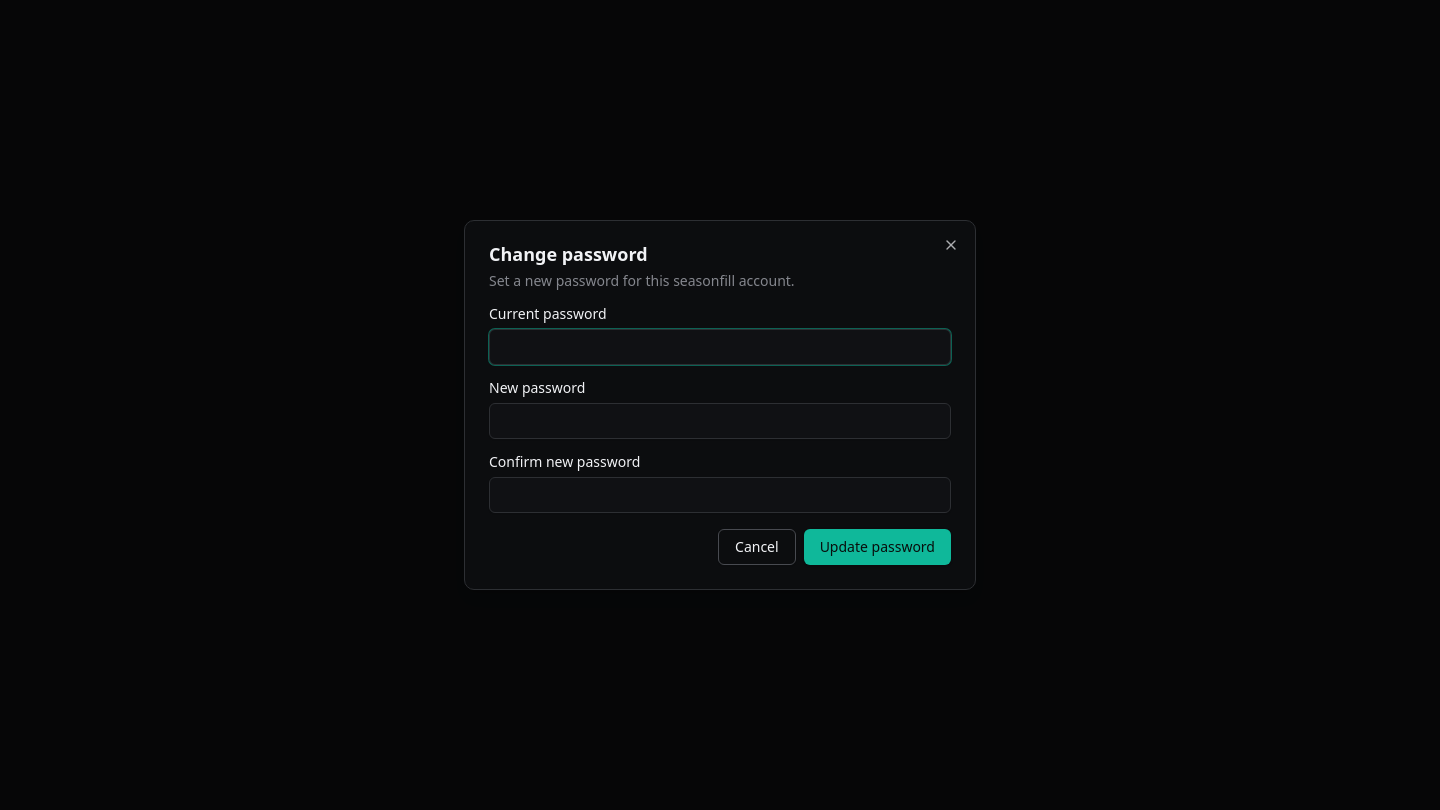
it: <PasswordChangeDialog /> › rejects when confirm does not match
Type "oldpass" into the password field labelled "Current password" at (720, 347), box [489, 329, 951, 365]
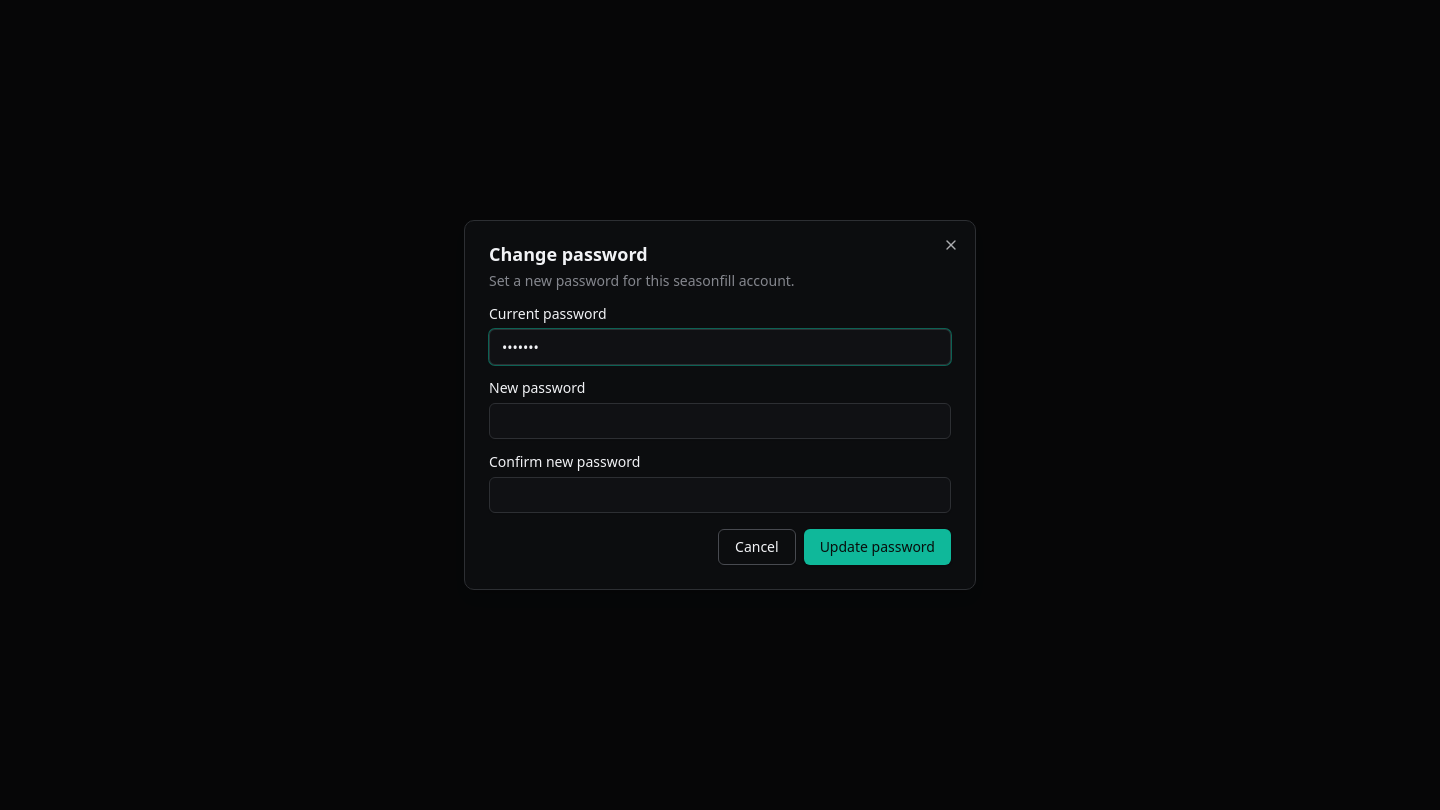
Type "longenoughpw" into the password field labelled "New password" at (720, 421), box [489, 403, 951, 439]
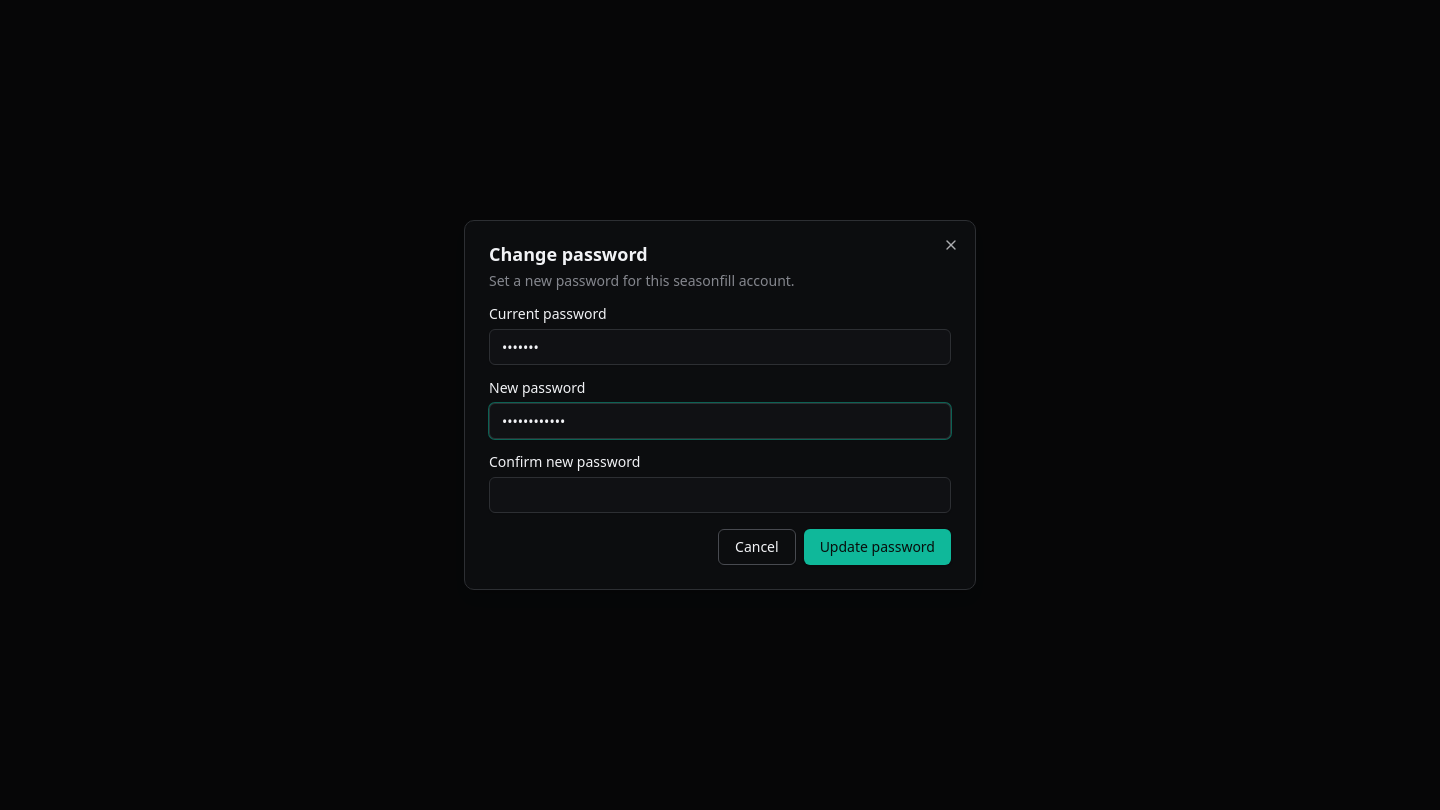
Type "longenoughpx" into the password field labelled "Confirm new password" at (720, 495), box [489, 477, 951, 513]
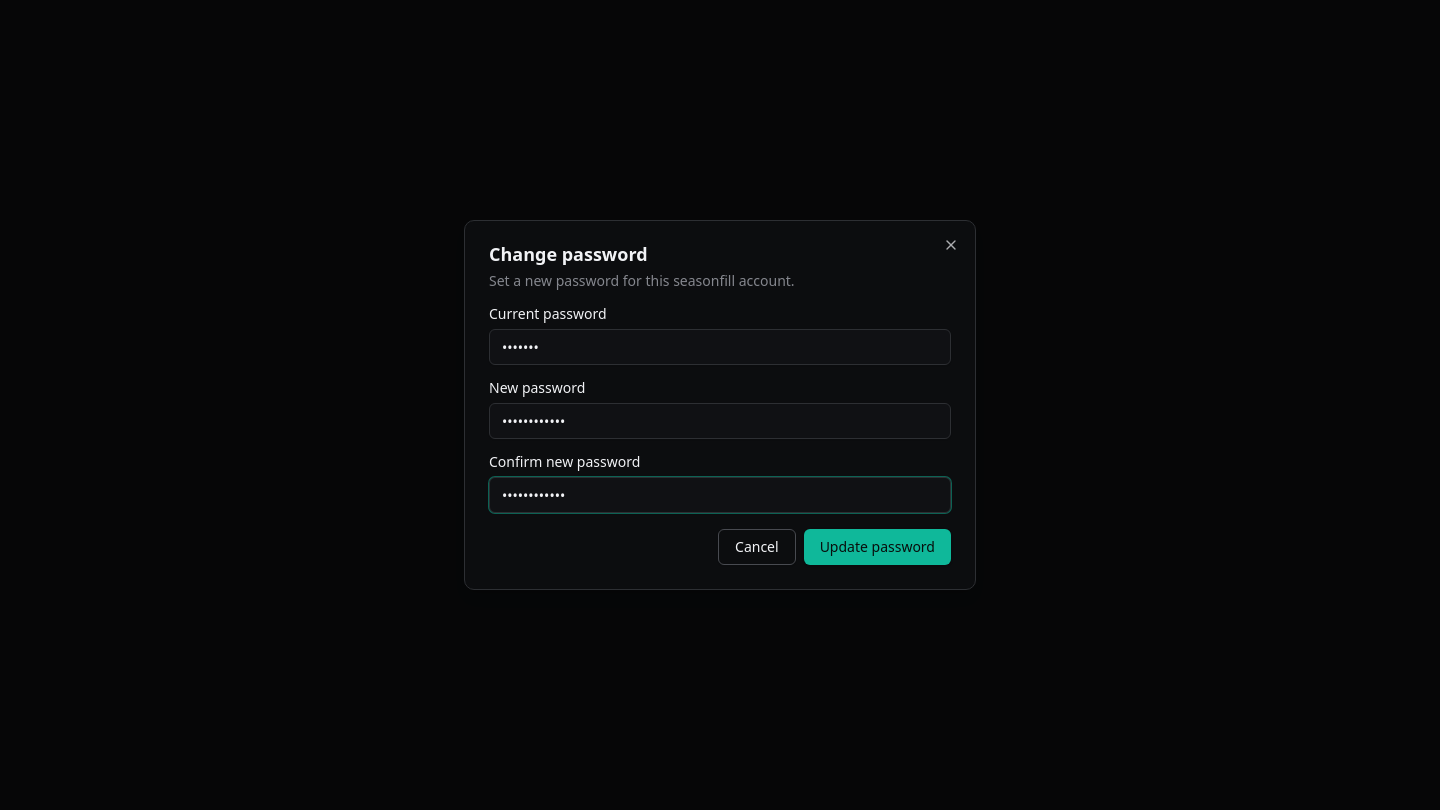
Click the button "Update password" at (877, 547), box [804, 529, 951, 565]
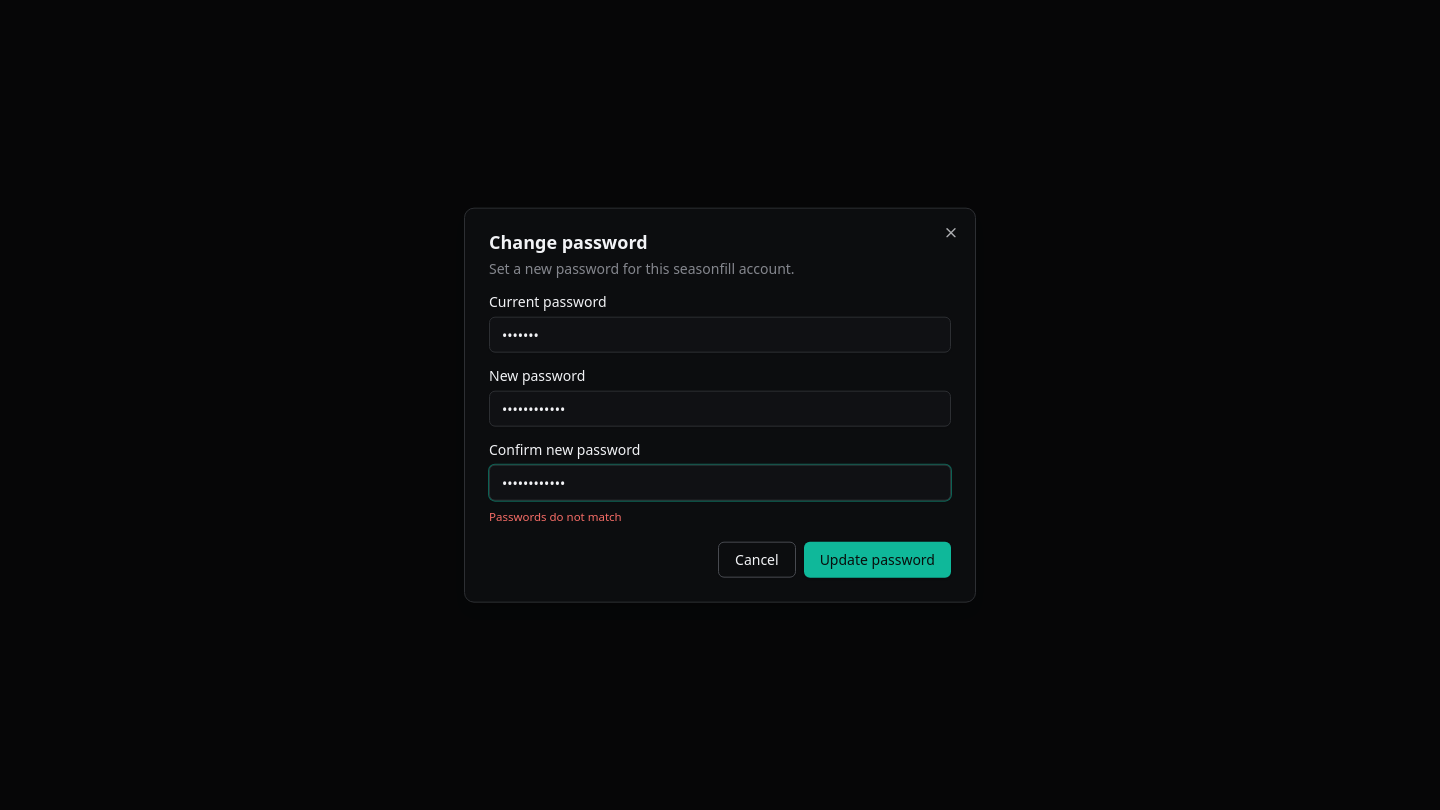
Expected: the text "Passwords do not match" is shown, [489, 509, 622, 524]
